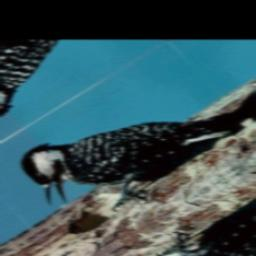Woodpecker: (2, 53, 256, 244)
